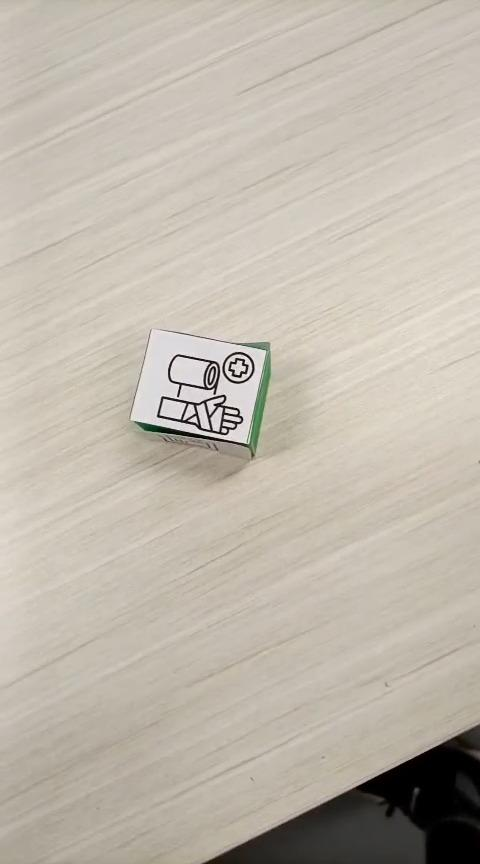Bandages: (128, 326, 271, 460)
